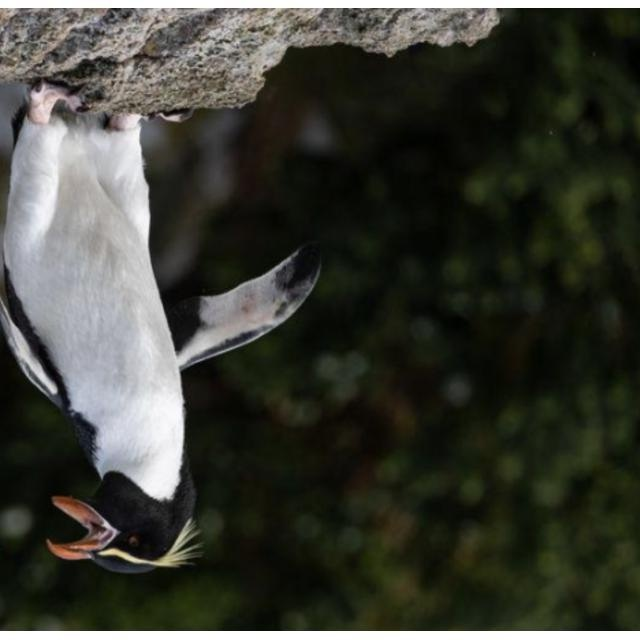penguin: (1, 77, 323, 575)
